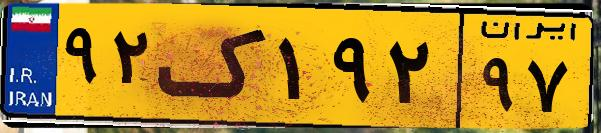1: (270, 28, 330, 110)
2: (385, 28, 445, 110), (110, 28, 158, 98)
7: (525, 38, 570, 115)
9: (330, 28, 385, 110), (57, 26, 110, 100), (475, 38, 525, 113)
ک: (158, 12, 270, 120)
